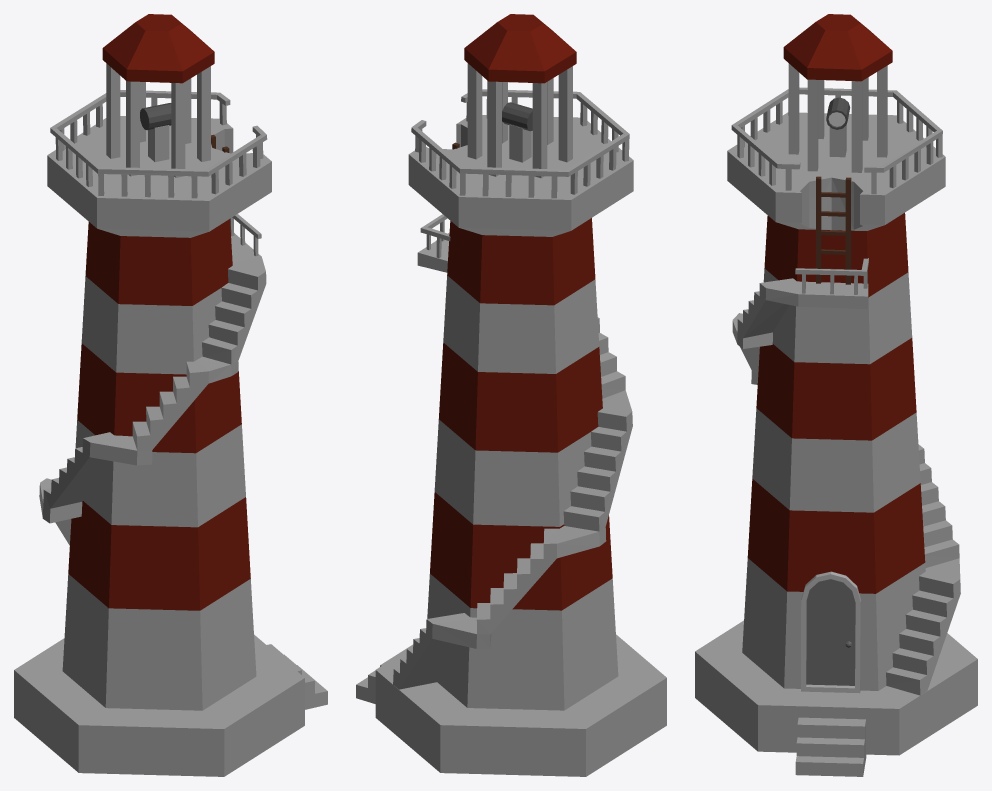
File: low_poly_lighthouse.glb
3 views of the same model, side by side, from view 1: azimuth 30°, elevation 25°; view 2: azimuth 150°, elevation 25°; view 3: azimuth 270°, elevation 25° (orthographic). The views are drawn at different scales.
Parts seen in each view (by area): view 1: base, top tower, stairs, raling; view 2: base, stairs, top tower, raling, raling.001; view 3: base, stairs, top tower, door, raling, ladder, raling.001.
Boxes of the visible parts, x1,y1,x2,y2 form: base: (14,116,327,776); top tower: (102,14,214,177); stairs: (39,233,266,545); raling: (50,90,267,198); base: (356,115,666,776); stairs: (393,232,632,689); top tower: (464,14,576,178); raling: (411,89,629,198); raling.001: (420,214,450,258); base: (695,112,977,776); stairs: (732,278,960,695); top tower: (783,14,892,172); door: (801,571,861,693); raling: (731,87,942,194); ladder: (816,176,851,284); raling.001: (795,258,868,294).
Bounding box in the file's own units: 2.89 × 7.34 × 2.75.
Materials: 1 (1 with a texture image).
